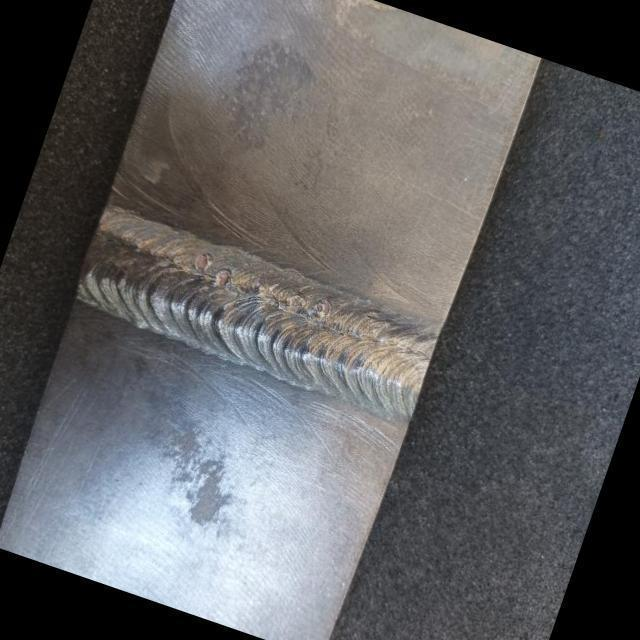defect: (310, 296, 329, 321), (287, 290, 305, 316), (192, 252, 209, 273), (214, 267, 231, 288), (252, 280, 262, 292)
